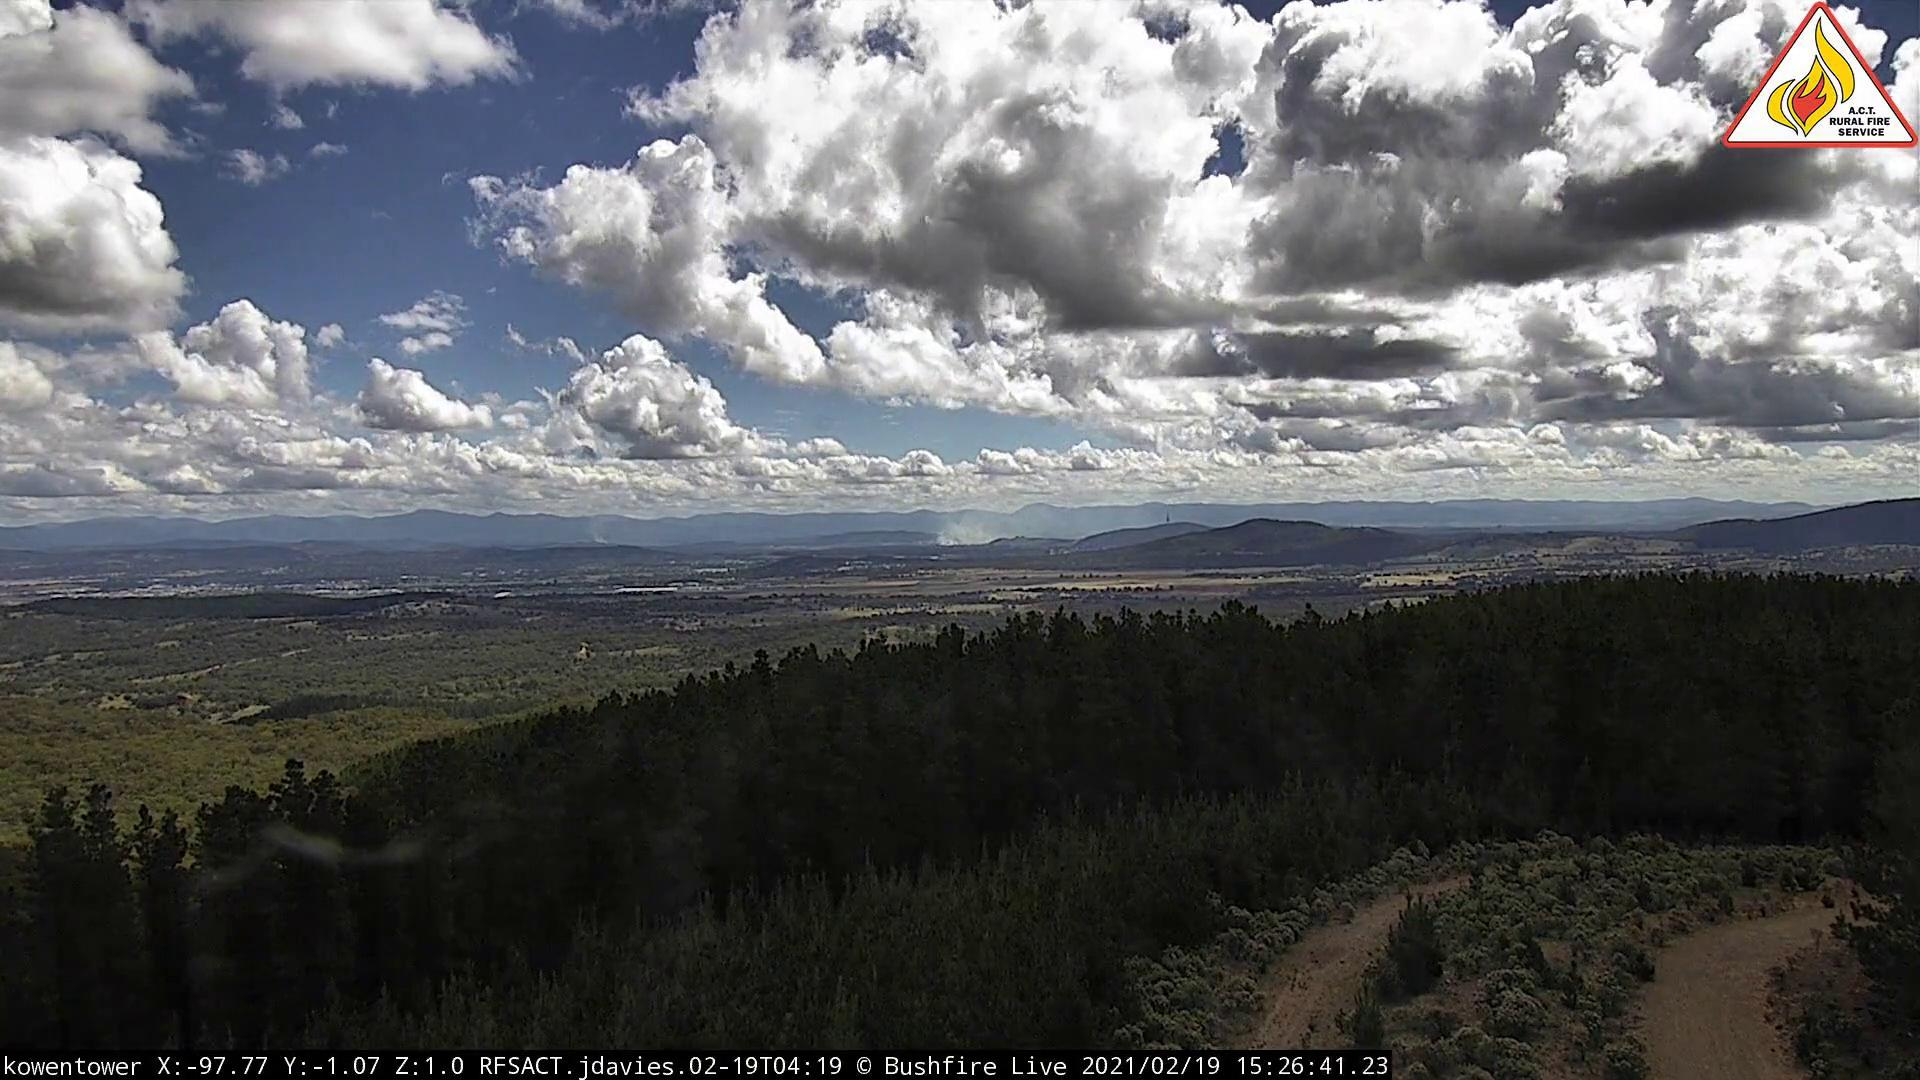Smoke: (939, 502, 1044, 553), (589, 531, 618, 554)
